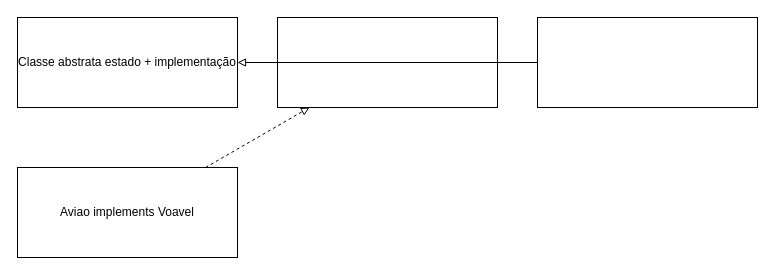
Image size: 775x275. Some labels were removed from this diagram. Here are the shapes that lost their labels. From the top down, the centre of each, then its label:
the point at 387,62: «interface» capacidade/contrato
the point at 647,62: Cachorro extends Animal
